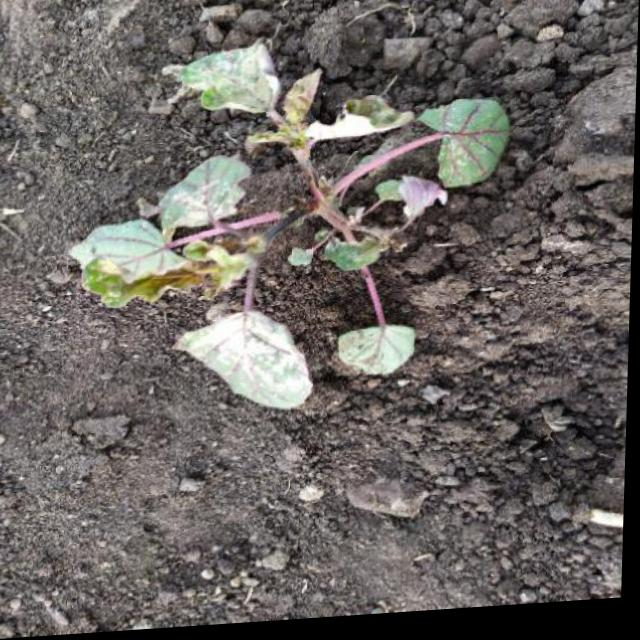weed: (69, 34, 532, 416)
